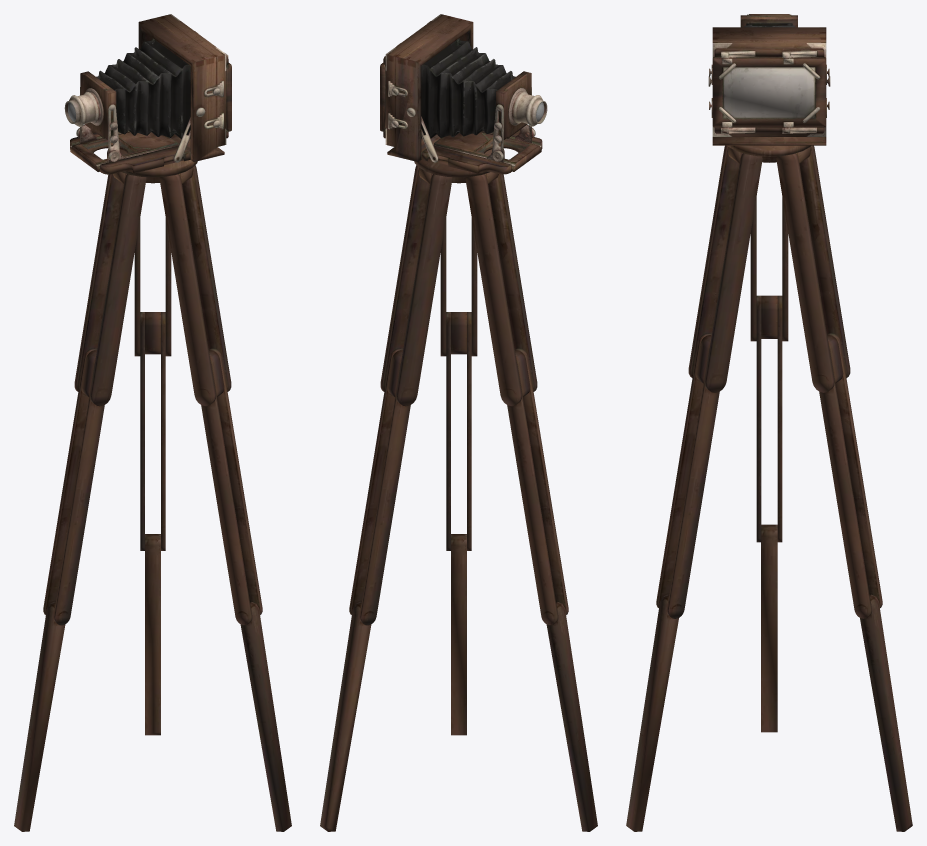
File: optimized_camera.glb
The picture shows the model from 3 angles, left to right: view 1: azimuth 30°, elevation 25°; view 2: azimuth 150°, elevation 25°; view 3: azimuth 270°, elevation 25°; orthographic projection. The views are drawn at different scales.
Visible parts, largest first — view 1: layer1_lp.005_Material.002_0, layer4_lp_Material.001_0; view 2: layer1_lp.005_Material.002_0, layer4_lp_Material.001_0; view 3: layer1_lp.005_Material.002_0, layer4_lp_Material.001_0.
Boxes of the visible parts, <box> form: layer1_lp.005_Material.002_0: <box>14,149,291,831</box>; layer4_lp_Material.001_0: <box>64,14,231,174</box>; layer1_lp.005_Material.002_0: <box>320,149,597,831</box>; layer4_lp_Material.001_0: <box>380,14,547,174</box>; layer1_lp.005_Material.002_0: <box>626,145,912,831</box>; layer4_lp_Material.001_0: <box>708,14,830,145</box>.
Size of the model in its own units: 0.3671 by 1.27 by 0.4239.
2 materials, 2 textured.
